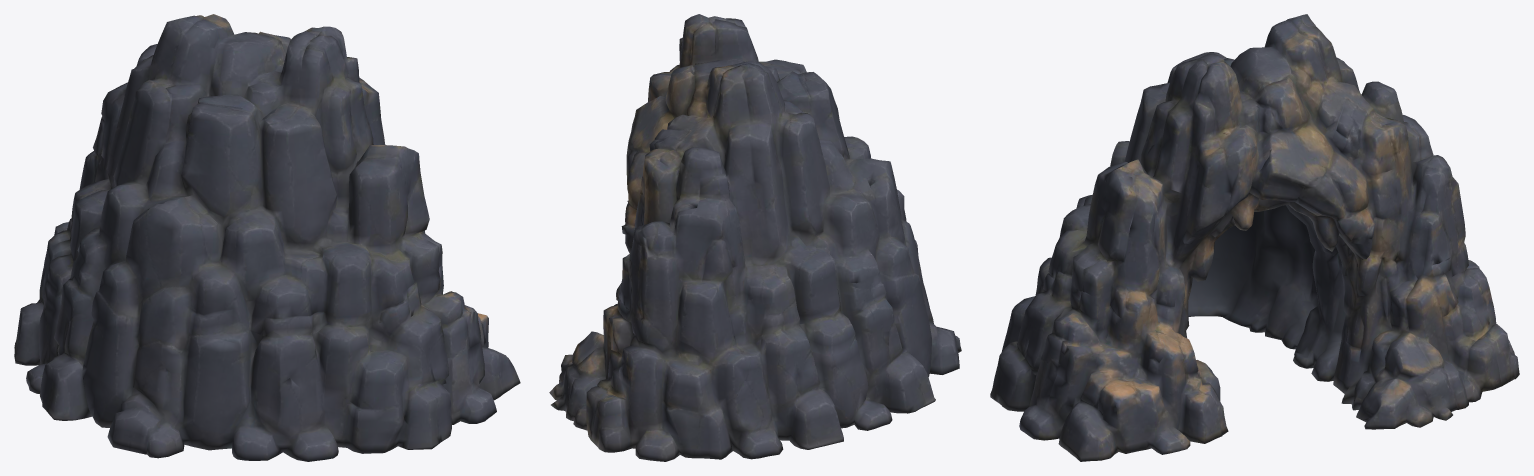
The model's file is pack-rock-cave.glb.
3 views of the same model, side by side, from view 1: azimuth 30°, elevation 25°; view 2: azimuth 150°, elevation 25°; view 3: azimuth 270°, elevation 25° (orthographic). The views are drawn at different scales.
Parts seen in each view (by area): view 1: tripo_node_61e6b15e-be60-47fa-a127-cf5f3b6fafa2; view 2: tripo_node_61e6b15e-be60-47fa-a127-cf5f3b6fafa2; view 3: tripo_node_61e6b15e-be60-47fa-a127-cf5f3b6fafa2.
Boxes of the visible parts, bbox=[...] form: tripo_node_61e6b15e-be60-47fa-a127-cf5f3b6fafa2: bbox=[14, 14, 520, 461]; tripo_node_61e6b15e-be60-47fa-a127-cf5f3b6fafa2: bbox=[549, 14, 961, 461]; tripo_node_61e6b15e-be60-47fa-a127-cf5f3b6fafa2: bbox=[990, 14, 1519, 461].
Bounding box in the file's own units: 0.8205 × 0.6847 × 0.9773.
Materials: 1 (1 with a texture image).
